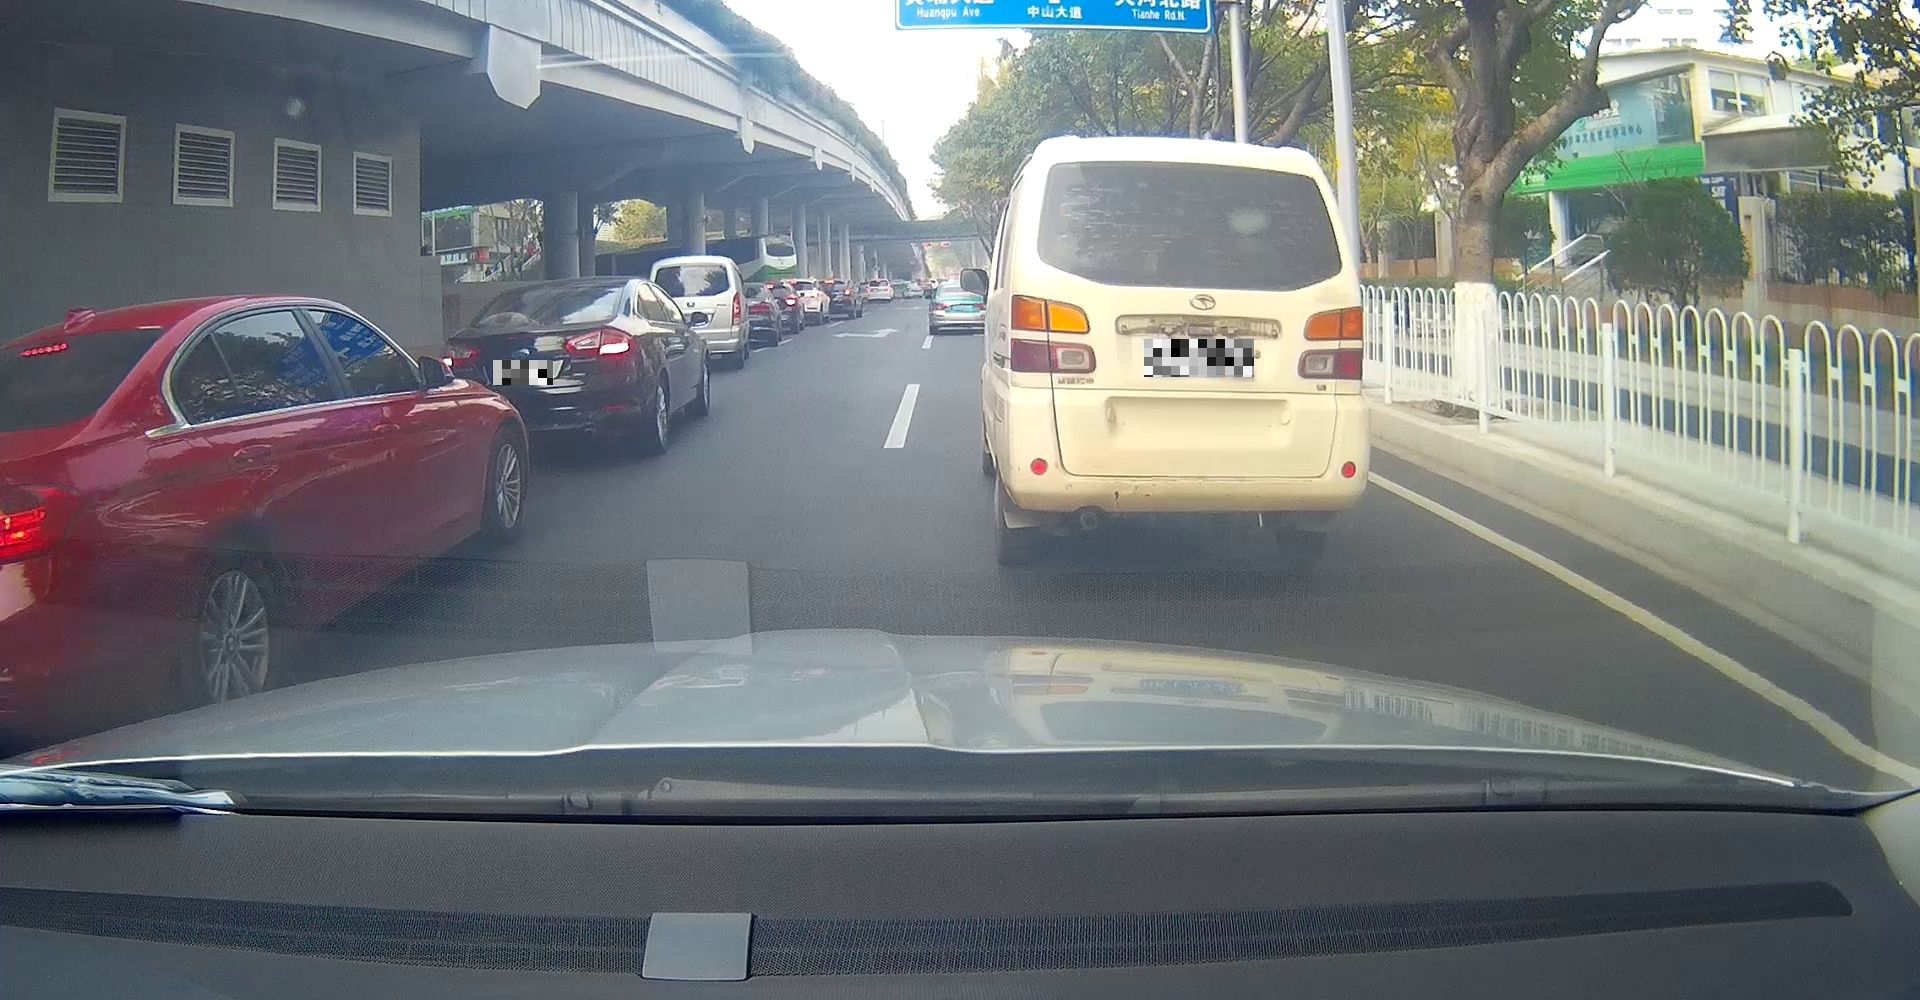L_light: (1010, 294, 1096, 372), (444, 341, 479, 364)
R_light: (1297, 305, 1364, 379), (566, 327, 632, 360)
T_light: (1163, 162, 1210, 173), (550, 286, 577, 293)
day-brake: (444, 275, 635, 454)
day-no: (1008, 135, 1370, 565)
plate_1: (493, 360, 552, 385)
plate_2: (1144, 339, 1255, 377)
